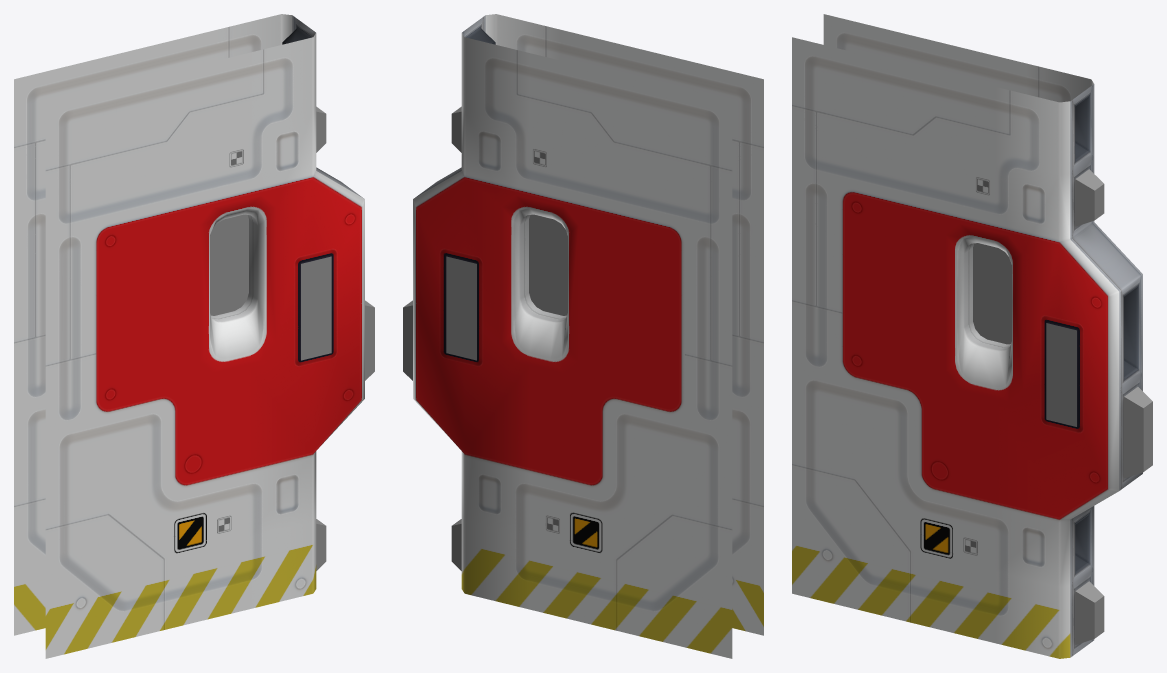
File: Blast_Door_left.fbx
3 renders of one model, left to right at view 1: azimuth 30°, elevation 25°; view 2: azimuth 150°, elevation 25°; view 3: azimuth 330°, elevation 25°, orthographic.
Visible parts, largest first — view 1: Blast_Door_left; view 2: Blast_Door_left; view 3: Blast_Door_left.
Boxes of the visible parts, <box> form: Blast_Door_left: <box>14,14,374,658</box>; Blast_Door_left: <box>403,14,763,658</box>; Blast_Door_left: <box>792,14,1152,658</box>.
Size of the model in its own units: 198 by 310 by 32.91.
Materials: 5 (1 with a texture image).
